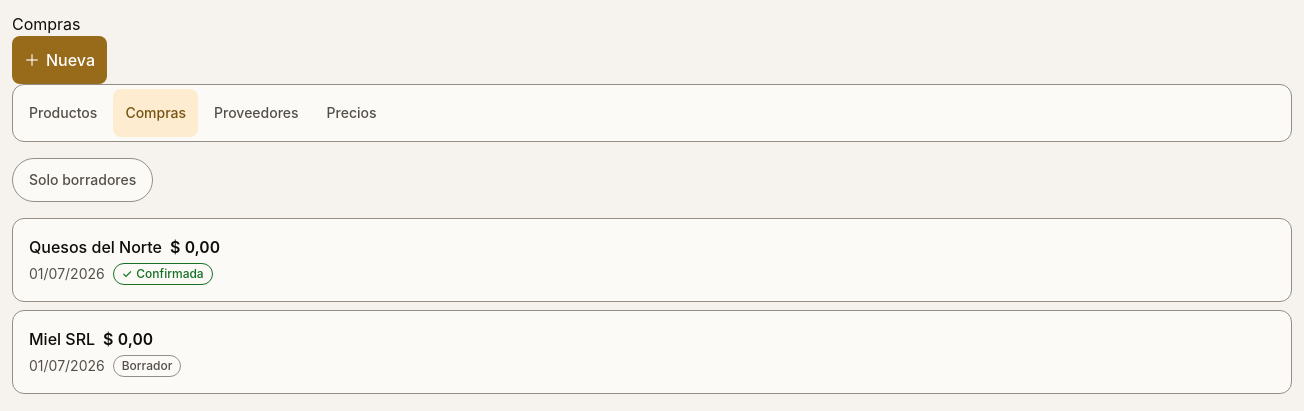
Test case: Compras › "Solo borradores" filtra las confirmadas
Step 1. Click the button "Solo borradores" → [83, 180], box [12, 158, 153, 202]
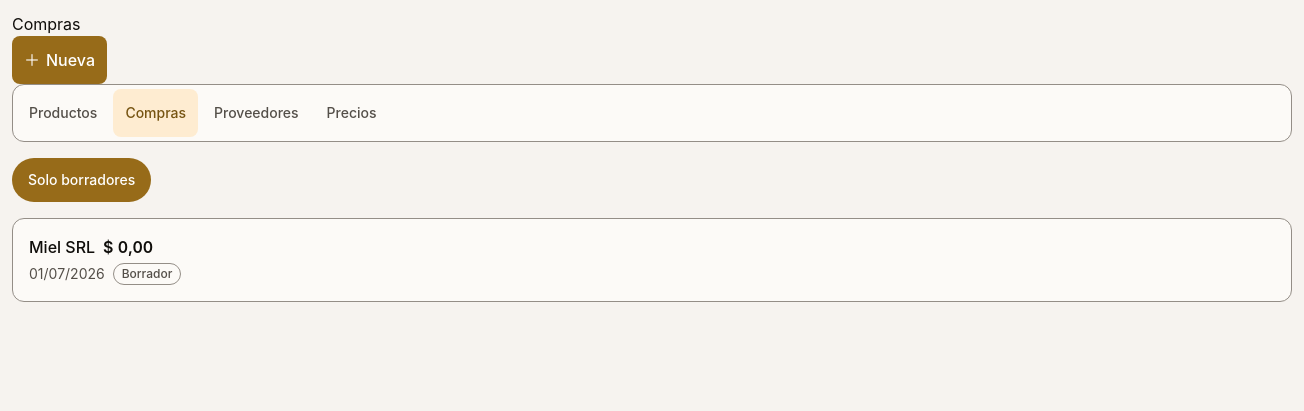
Expected: the text "Miel SRL" is shown, [29, 235, 95, 259]
Now the button "Quesos del Norte" is gone
